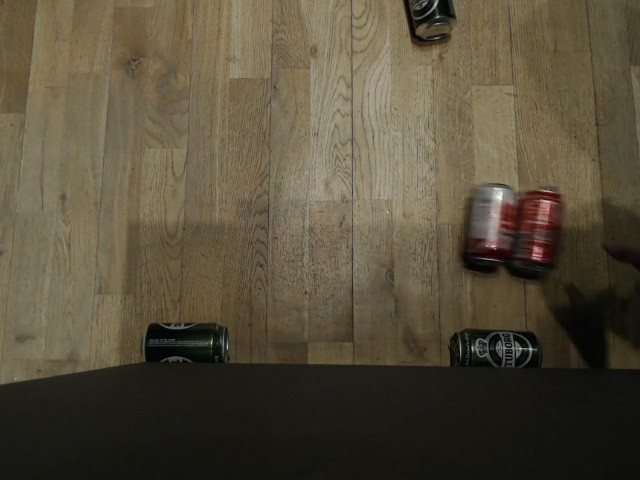beer: (446, 325, 545, 372), (138, 317, 232, 366), (397, 0, 461, 42)
cola: (461, 181, 517, 265), (515, 188, 564, 274)
